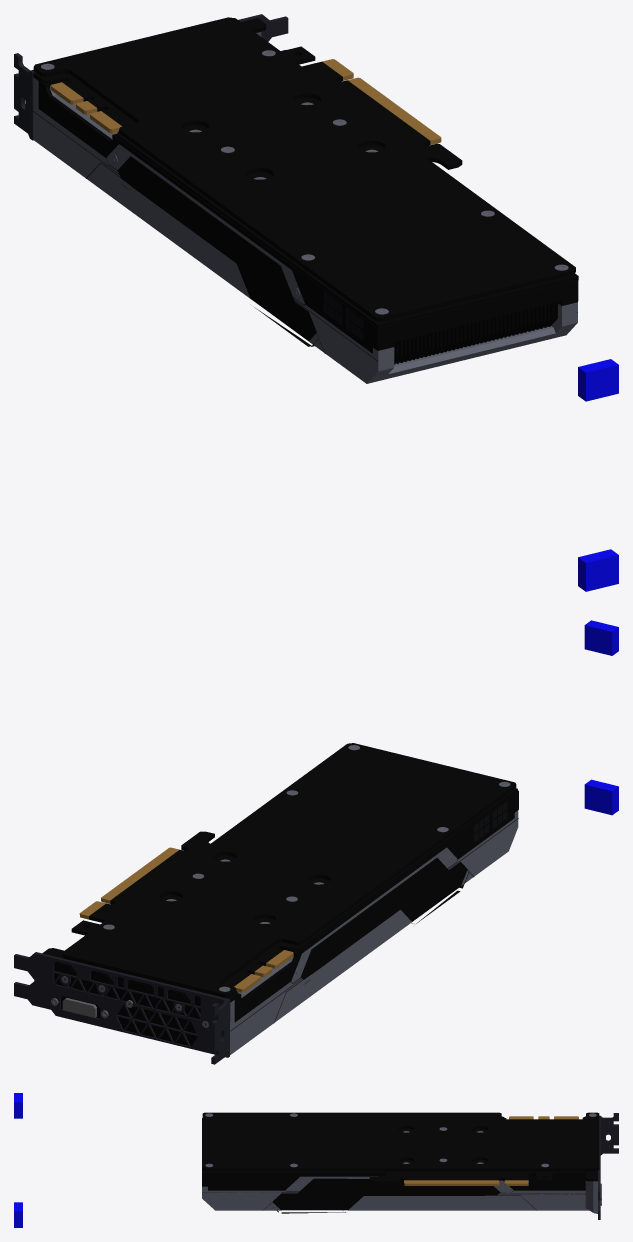
Rendered from gpu.obj.
The picture shows the model from 3 angles, top to bottom: view 1: azimuth 30°, elevation 25°; view 2: azimuth 150°, elevation 25°; view 3: azimuth 270°, elevation 25°; orthographic projection. The views are drawn at different scales.
Parts seen in each view (by area): view 1: Union9, Union28, Union38, Union17, Union31, Union3, Union16, Union19, Union55, Union5, Part1, Part2 (+5 smaller); view 2: Union9, Union42, Union28, Union38, Part76, Union31, Union55, Union19, Union17, Union5, Part1, Part2 (+3 smaller); view 3: Union9, Union28, Union50, Union21, Union17, Union55, Union31, Union20, Union54, Union14, Part93, Union42 (+3 smaller).
Part boxes in pixels (bbox=[...]): Union9: bbox=[33, 17, 575, 321]; Union28: bbox=[33, 32, 261, 298]; Union38: bbox=[117, 156, 316, 341]; Union17: bbox=[309, 302, 577, 383]; Union31: bbox=[33, 72, 578, 327]; Union3: bbox=[353, 279, 577, 350]; Union16: bbox=[394, 302, 557, 364]; Union19: bbox=[112, 134, 377, 353]; Union55: bbox=[302, 61, 462, 169]; Union5: bbox=[38, 80, 118, 157]; Part1: bbox=[578, 549, 618, 591]; Part2: bbox=[578, 359, 618, 401]; Union9: bbox=[62, 743, 516, 997]; Union42: bbox=[14, 952, 230, 1057]; Union28: bbox=[230, 879, 411, 1054]; Union38: bbox=[301, 857, 467, 979]; Part76: bbox=[81, 971, 200, 1046]; Union31: bbox=[60, 788, 517, 1002]; Union55: bbox=[89, 831, 214, 922]; Union19: bbox=[293, 796, 515, 956]; Union17: bbox=[461, 810, 518, 885]; Union5: bbox=[234, 954, 301, 1022]; Part1: bbox=[584, 779, 618, 815]; Part2: bbox=[584, 620, 618, 655]; Union9: bbox=[202, 1112, 599, 1171]; Union28: bbox=[348, 1176, 597, 1213]; Union50: bbox=[272, 1178, 500, 1210]; Union21: bbox=[202, 1174, 383, 1190]; Union17: bbox=[202, 1186, 281, 1210]; Union55: bbox=[369, 1171, 531, 1183]; Union31: bbox=[202, 1116, 597, 1174]; Union20: bbox=[503, 1175, 585, 1190]; Union54: bbox=[404, 1180, 528, 1185]; Union14: bbox=[600, 1113, 618, 1155]; Part93: bbox=[281, 1176, 347, 1193]; Union42: bbox=[598, 1115, 600, 1219].
Bounding box in the file's own units: 0.929 × 0.76 × 3.32.
Materials: 19 (1 with a texture image).
